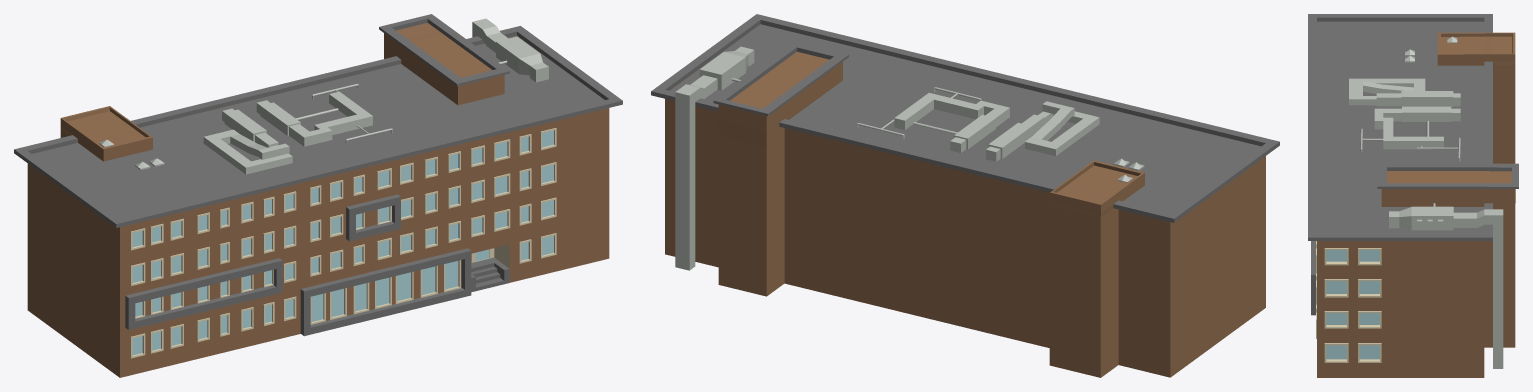
File: Gebouw B.fbx
The picture shows the model from 3 angles, left to right: view 1: azimuth 30°, elevation 25°; view 2: azimuth 150°, elevation 25°; view 3: azimuth 270°, elevation 25°; orthographic projection. The views are drawn at different scales.
Parts seen in each view (by area): view 1: Cube, Cube.010, Cube.008, Cube.004, Cube.003, Cube.002, Cube.009, Cube.001; view 2: Cube, Cube.002, Cube.004, Cube.003; view 3: Cube, Cube.002, Cube.004, Cube.003, Cube.010.
Part boxes in pixels (<box>): Cube: <box>14,14,622,377</box>; Cube.010: <box>300,248,471,336</box>; Cube.008: <box>125,258,282,329</box>; Cube.004: <box>203,108,292,174</box>; Cube.003: <box>256,91,372,146</box>; Cube.002: <box>472,18,548,82</box>; Cube.009: <box>346,194,400,241</box>; Cube.001: <box>471,257,509,292</box>; Cube: <box>651,14,1279,377</box>; Cube.002: <box>675,46,754,270</box>; Cube.004: <box>986,101,1099,161</box>; Cube.003: <box>894,93,1009,152</box>; Cube: <box>1308,14,1518,377</box>; Cube.002: <box>1389,206,1503,368</box>; Cube.004: <box>1349,78,1460,106</box>; Cube.003: <box>1374,106,1460,149</box>; Cube.010: <box>1311,241,1315,315</box>.
Bounding box in the file's own units: 1060 × 359 × 422.
